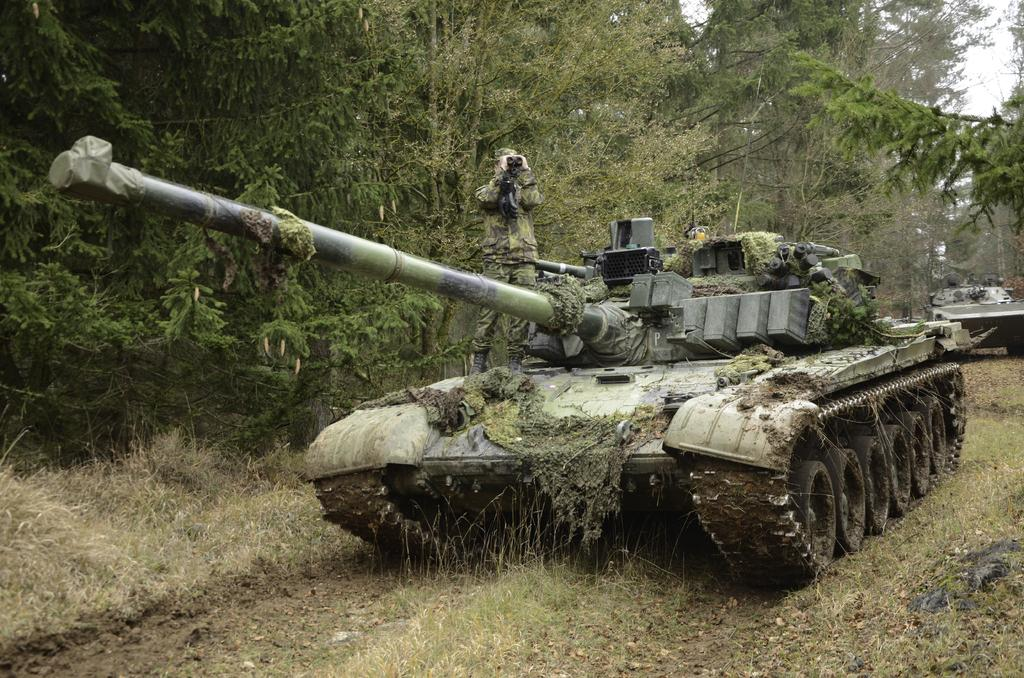Tank: (49, 133, 970, 588), (928, 273, 1023, 357)
